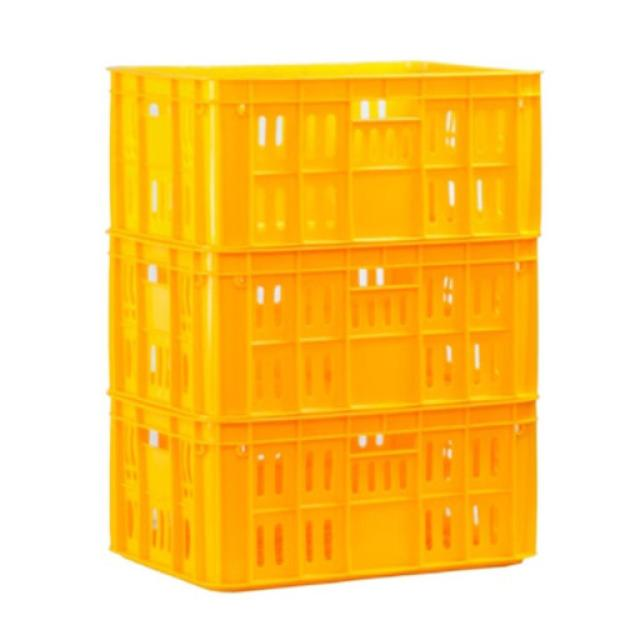basket: (111, 63, 539, 591), (112, 62, 542, 247), (110, 235, 538, 420)
